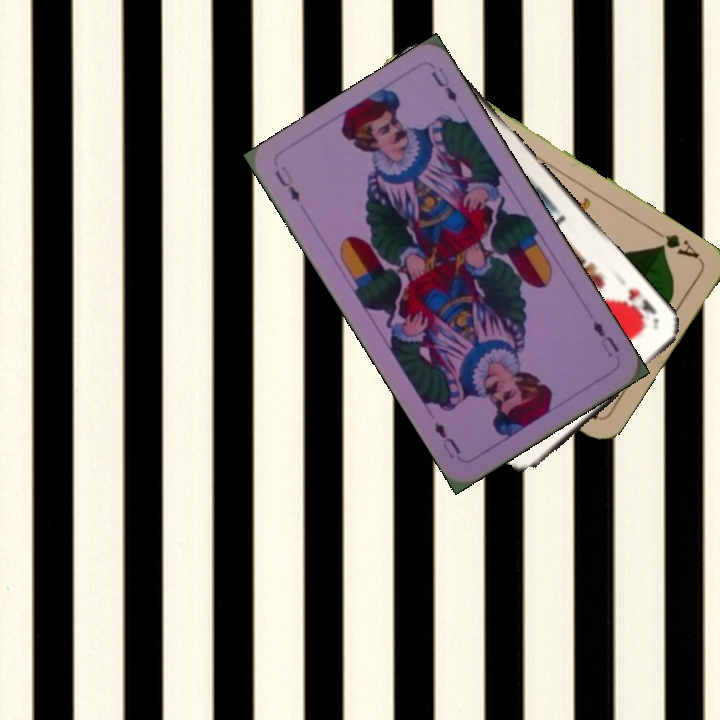EU: (588, 317, 622, 360), (270, 161, 303, 205)
GA: (649, 225, 702, 261)
HK: (620, 284, 662, 329)
